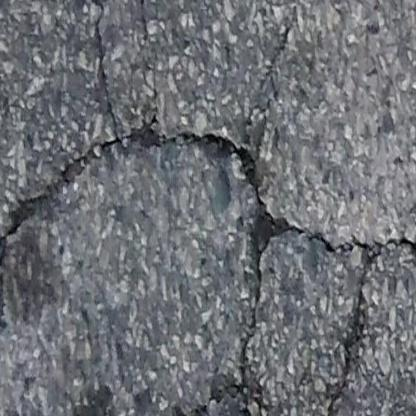Cracks: (0, 19, 416, 416), (406, 187, 416, 212), (135, 0, 149, 12), (289, 0, 303, 4)
